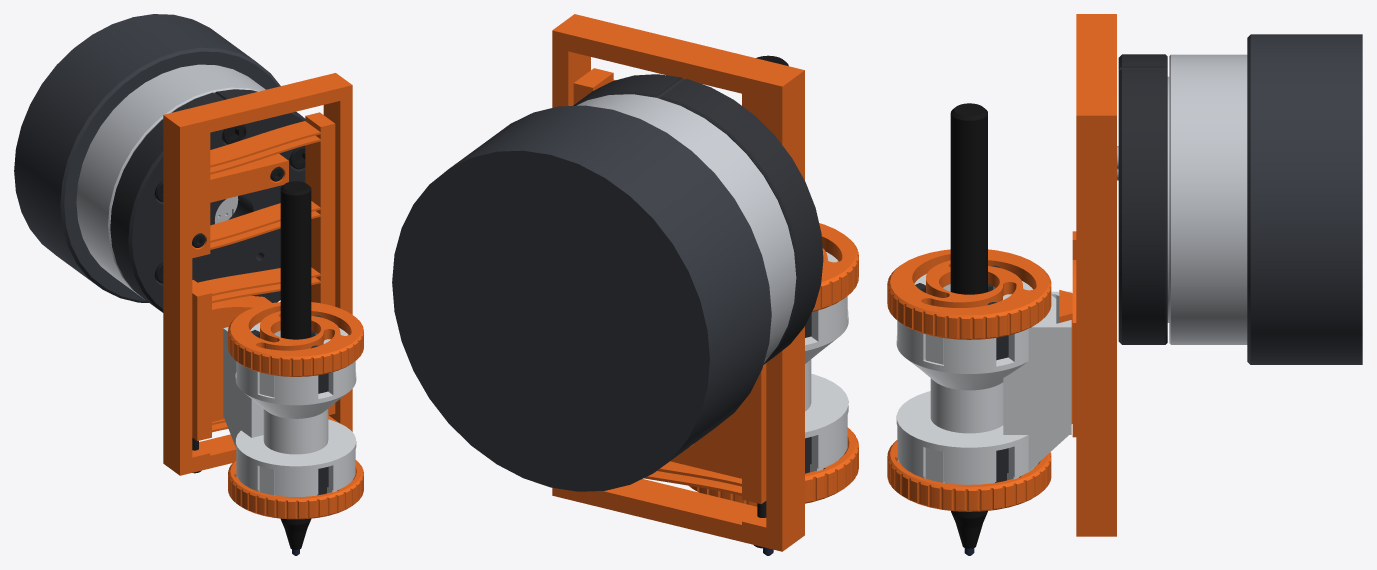
The model's file is Quick-Change v2 - Assembly.glb.
3 renders of one model, left to right at view 1: azimuth 30°, elevation 25°; view 2: azimuth 150°, elevation 25°; view 3: azimuth 270°, elevation 25°, orthographic. The views are drawn at different scales.
Parts seen in each view (by area): view 1: Flexure stage, UTRA 6-1000 J6 housing (ref), Cartridge body, Tool adapter (v1), UTRA 6-1000 tool flange (ref), Twist ring (upper), Gel pen 11 mm barrel, Twist ring (lower), Gel pen 11 mm front; view 2: UTRA 6-1000 J6 housing (ref), Flexure stage, Tool adapter (v1), UTRA 6-1000 tool flange (ref), Cartridge body, Twist ring (upper), Twist ring (lower); view 3: UTRA 6-1000 J6 housing (ref), Cartridge body, UTRA 6-1000 tool flange (ref), Flexure stage, Tool adapter (v1), Twist ring (upper), Gel pen 11 mm barrel, Twist ring (lower), Gel pen 11 mm front.
Boxes of the visible parts, left/top/right/bottom form: Flexure stage: left=163, top=73, right=352, bottom=475; UTRA 6-1000 J6 housing (ref): left=14, top=14, right=280, bottom=302; Cartridge body: left=223, top=322, right=356, bottom=496; Tool adapter (v1): left=110, top=89, right=305, bottom=312; UTRA 6-1000 tool flange (ref): left=76, top=64, right=265, bottom=299; Twist ring (upper): left=228, top=302, right=363, bottom=376; Gel pen 11 mm barrel: left=280, top=181, right=311, bottom=524; Twist ring (lower): left=228, top=460, right=363, bottom=519; Gel pen 11 mm front: left=281, top=520, right=310, bottom=549; UTRA 6-1000 J6 housing (ref): left=392, top=105, right=771, bottom=491; Flexure stage: left=552, top=14, right=804, bottom=551; Tool adapter (v1): left=573, top=74, right=823, bottom=364; UTRA 6-1000 tool flange (ref): left=577, top=94, right=796, bottom=362; Cartridge body: left=805, top=252, right=848, bottom=472; Twist ring (upper): left=812, top=223, right=858, bottom=311; Twist ring (lower): left=689, top=427, right=858, bottom=506; UTRA 6-1000 J6 housing (ref): left=1247, top=34, right=1362, bottom=364; Cartridge body: left=896, top=274, right=1071, bottom=484; UTRA 6-1000 tool flange (ref): left=1167, top=54, right=1247, bottom=344; Flexure stage: left=1059, top=14, right=1116, bottom=536; Tool adapter (v1): left=1118, top=54, right=1167, bottom=344; Twist ring (upper): left=887, top=249, right=1051, bottom=339; Gel pen 11 mm barrel: left=950, top=103, right=987, bottom=518; Twist ring (lower): left=887, top=440, right=1051, bottom=511; Gel pen 11 mm front: left=951, top=512, right=987, bottom=548.
Size of the model in its own units: 0.098 by 0.1647 by 0.1402.
